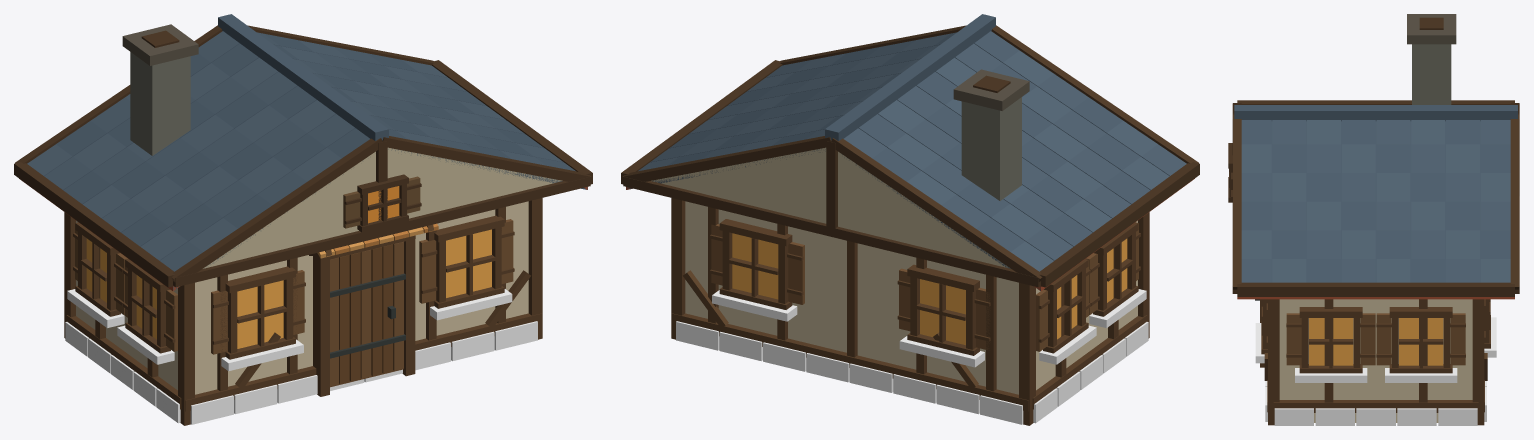
Rendered from house_a_blue.glb.
3 renders of one model, left to right at view 1: azimuth 30°, elevation 25°; view 2: azimuth 150°, elevation 25°; view 3: azimuth 270°, elevation 25°, orthographic. The views are drawn at different scales.
Visible parts, largest first — view 1: house_a_blue; view 2: house_a_blue; view 3: house_a_blue.
Part boxes in pixels (box(x1,y1,x2,y2)): house_a_blue: box(14, 14, 592, 425); house_a_blue: box(621, 14, 1199, 425); house_a_blue: box(1228, 14, 1519, 425).
Bounding box in the file's own units: 7.16 × 4.91 × 4.72.
